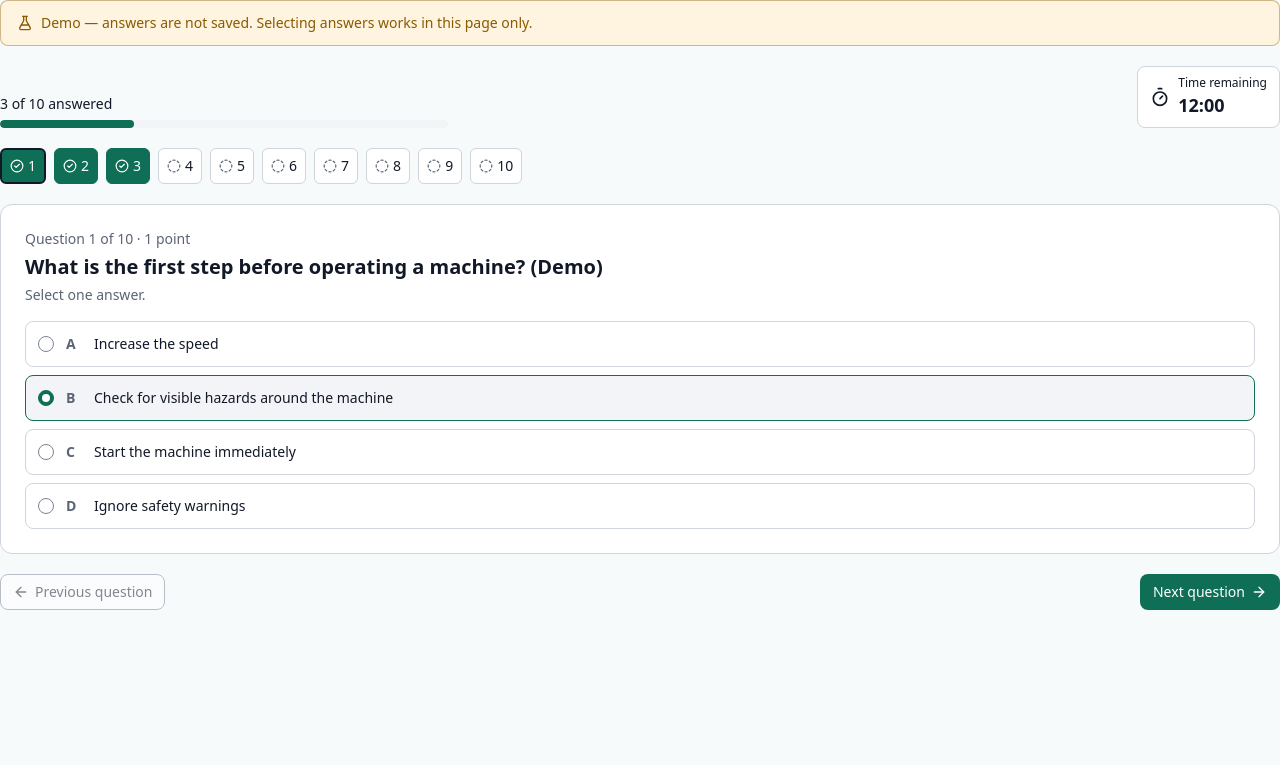
Test: AttemptTaker › review lists unanswered questions; submit confirms its impact and is not connected (D-071)
What coordinates should you click on to do the following:
click the button named "Question 10, not answered"
I would click on:
 (496, 166)
Its box is x1=470 y1=148 x2=522 y2=184.
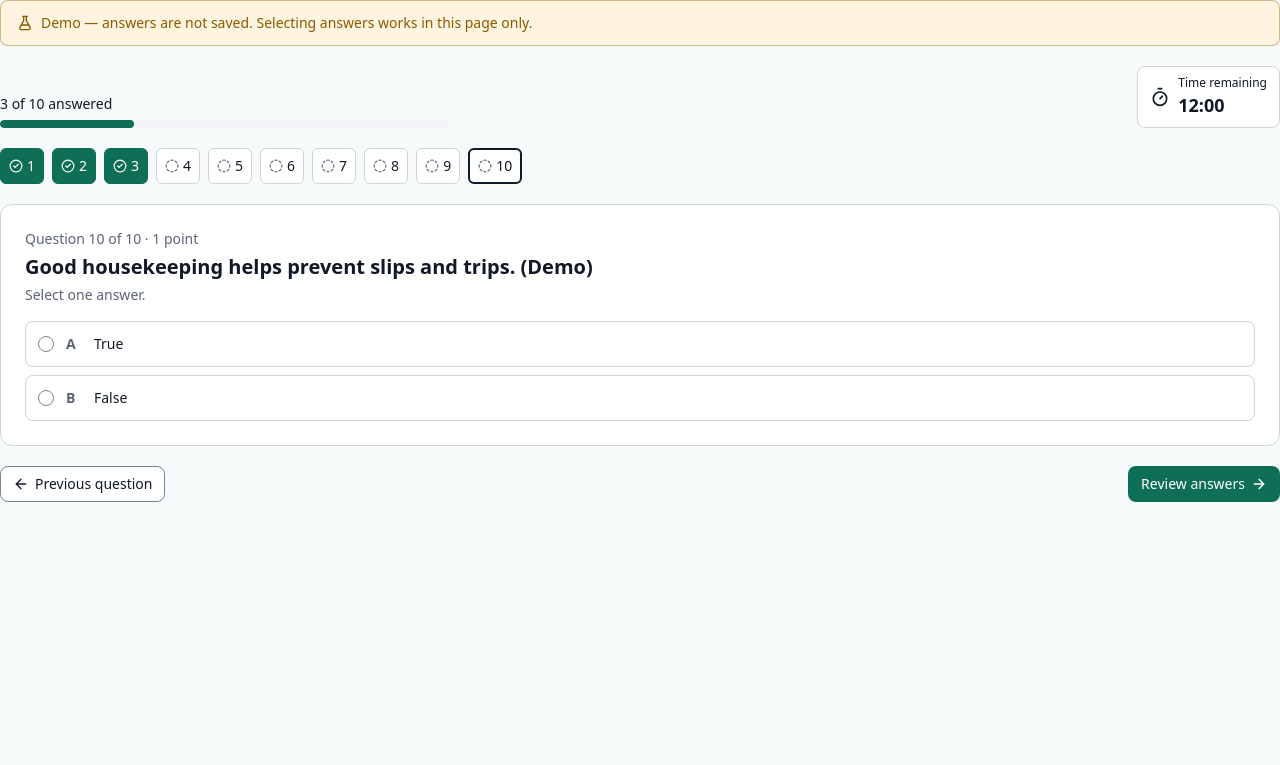
What coordinates should you click on to do the following:
click the button "Review answers"
I would click on:
 (1204, 484)
Its box is x1=1128 y1=466 x2=1279 y2=502.
(page scrolled)
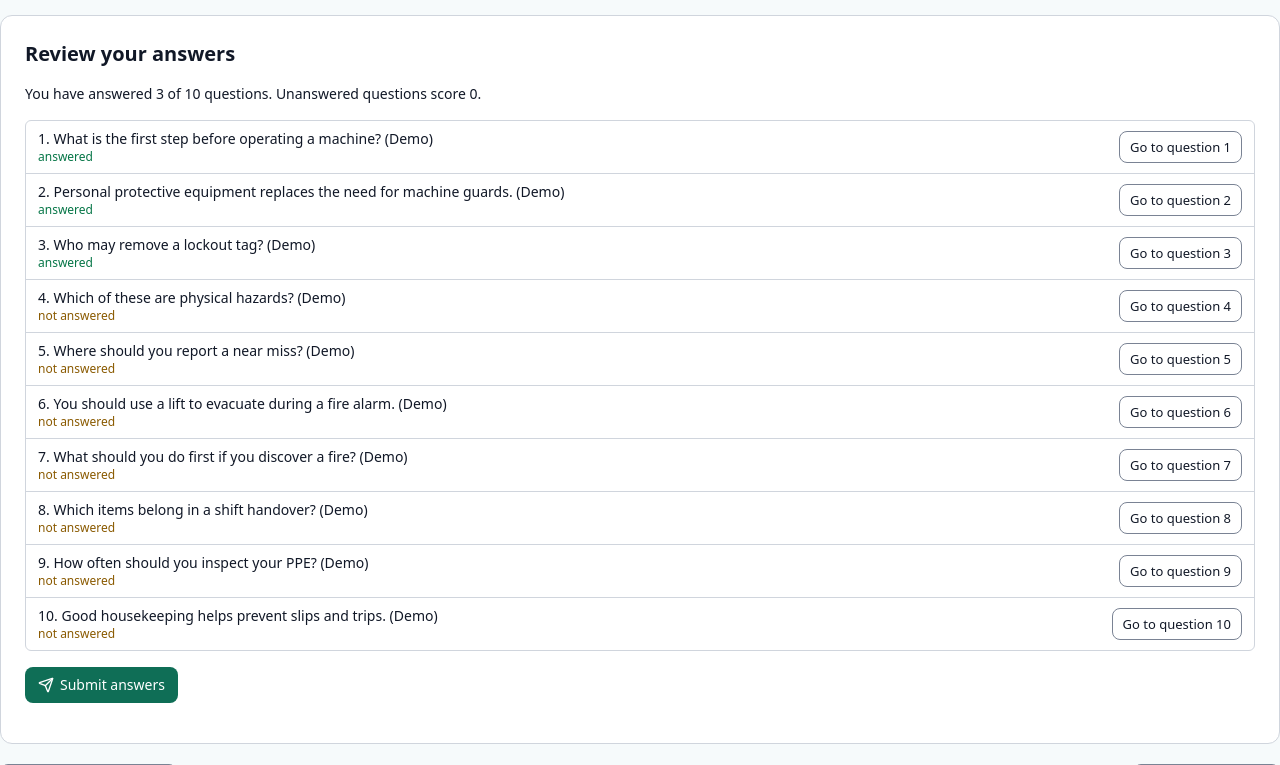
Now the heading "Review your answers" is shown, box x1=25 y1=40 x2=235 y2=67
Now the text "You have answered 3 of 10 questions. Unanswered questions score 0." is shown, box x1=25 y1=84 x2=481 y2=103
What coordinates should you click on to do the following:
click the button "Submit answers"
I would click on:
 (102, 685)
Its box is x1=25 y1=667 x2=178 y2=703.
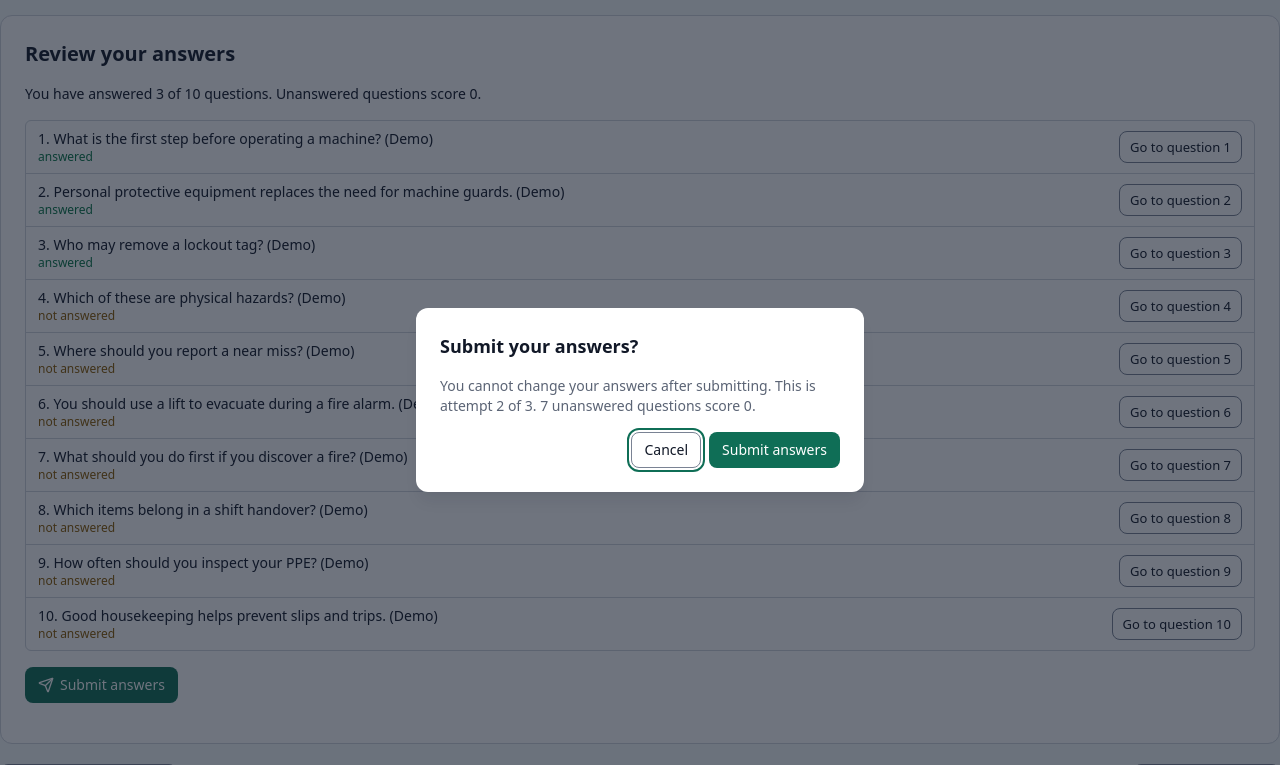
Now the dialog "Submit your answers?" shows "This is attempt 2 of 3. 7 unanswered questions score 0.", box x1=440 y1=376 x2=816 y2=415
What coordinates should you click on to do the following:
click the button "Submit answers"
I would click on:
 (774, 450)
Its box is x1=709 y1=432 x2=840 y2=468.
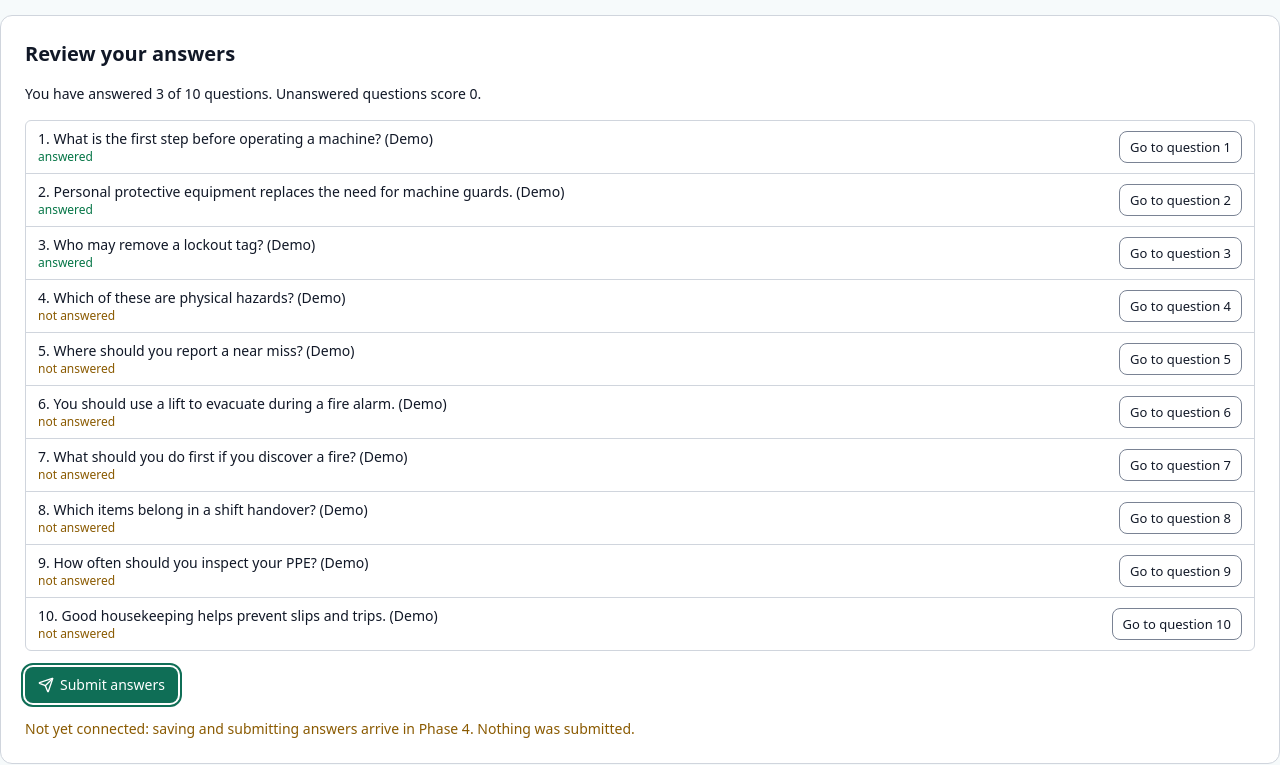
Now the message shows "Not yet connected", box x1=25 y1=719 x2=635 y2=738
Now the message shows "Nothing was submitted.", box x1=25 y1=719 x2=635 y2=738
